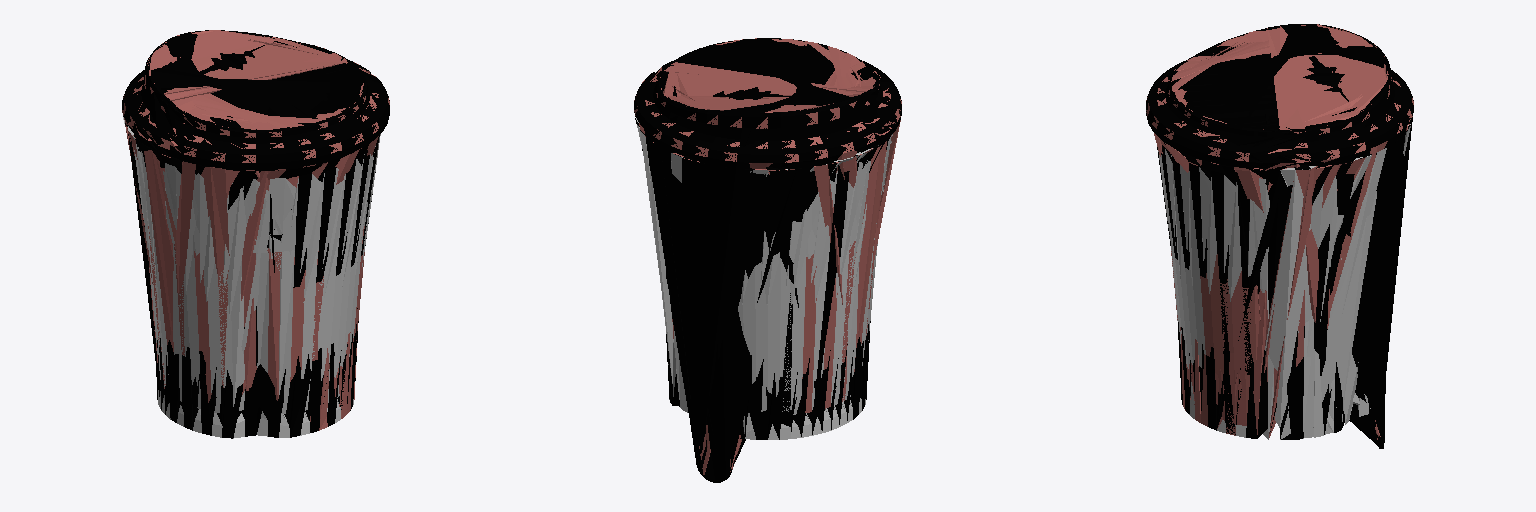
Rendered from Blender.obj.
3 renders of one model, left to right at view 1: azimuth 30°, elevation 25°; view 2: azimuth 150°, elevation 25°; view 3: azimuth 270°, elevation 25°, orthographic.
Parts seen in each view (by area): view 1: Cylinder007, Cylinder005, Object002; view 2: Object002, Cylinder007, Cylinder005; view 3: Cylinder007, Object002, Cylinder005.
Boxes of the visible parts, x1,y1,x2,y2 form: Cylinder007: [122, 31, 389, 438]; Cylinder005: [122, 30, 389, 430]; Object002: [125, 30, 389, 438]; Object002: [635, 38, 901, 482]; Cylinder007: [634, 43, 901, 479]; Cylinder005: [634, 38, 901, 474]; Cylinder007: [1146, 24, 1413, 447]; Object002: [1151, 24, 1413, 442]; Cylinder005: [1146, 24, 1413, 439].
Size of the model in its own units: 14552 by 22575 by 14528.